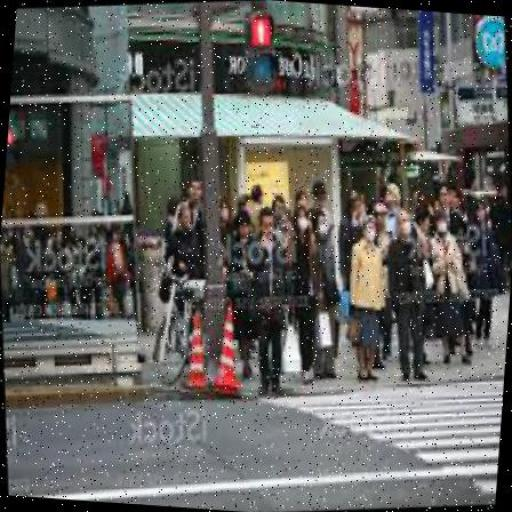person: (233, 201, 305, 399), (373, 206, 441, 385), (334, 212, 400, 386), (271, 202, 332, 384), (414, 207, 478, 367), (216, 208, 272, 382), (453, 194, 512, 350), (300, 206, 353, 378)
